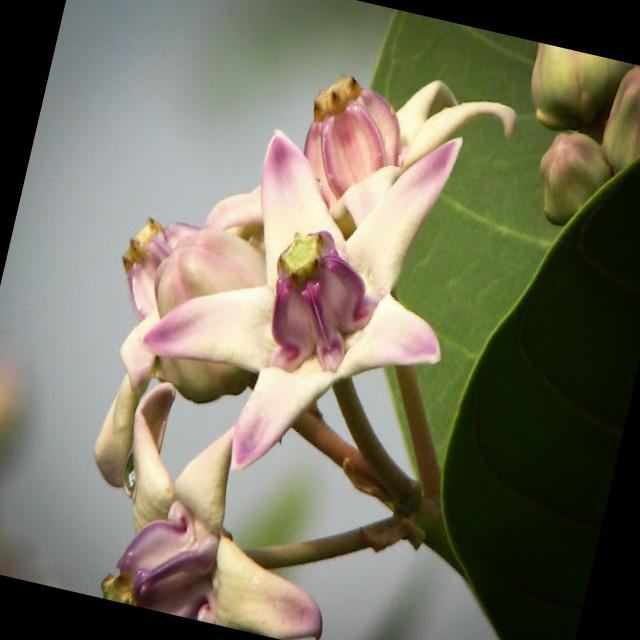Poisonous-Calatropis: (16, 12, 547, 640), (346, 8, 640, 287)
